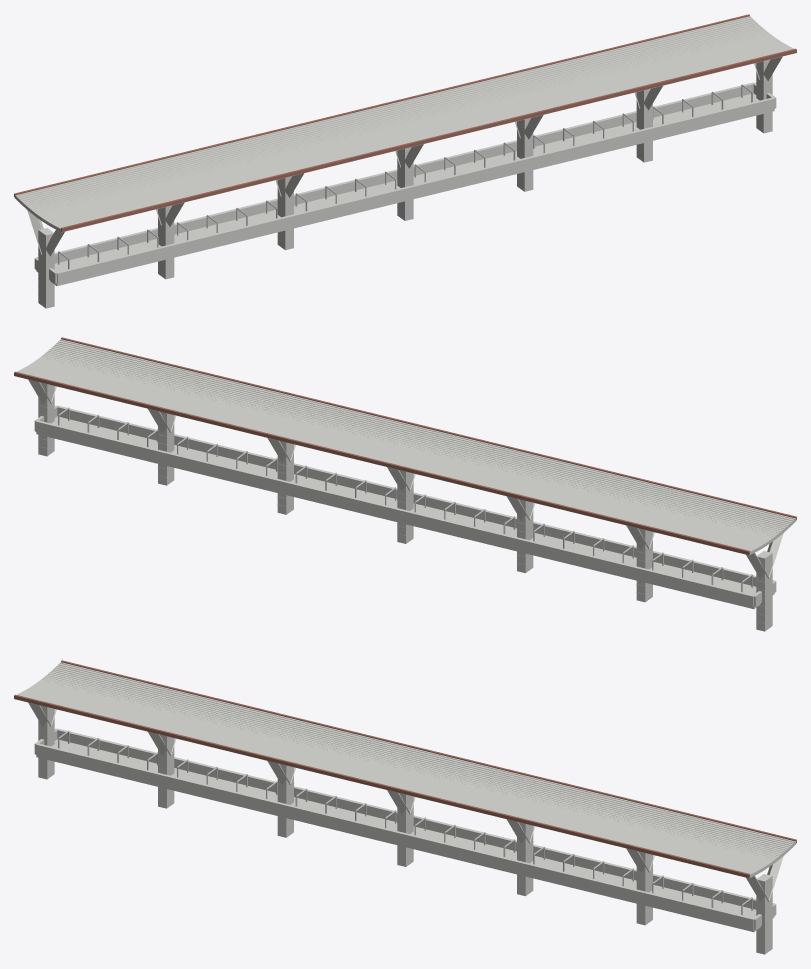
Rendered from dining-wash.glb.
3 renders of one model, top to bottom at view 1: azimuth 30°, elevation 25°; view 2: azimuth 150°, elevation 25°; view 3: azimuth 330°, elevation 25°, orthographic.
Parts seen in each view (by area): view 1: dining-wash; view 2: dining-wash; view 3: dining-wash.
Boxes of the visible parts, x1,y1,x2,y2 form: dining-wash: (14, 14, 796, 308); dining-wash: (14, 337, 796, 631); dining-wash: (14, 660, 796, 954).
Size of the model in its own units: 23.55 by 2.93 by 2.67.
